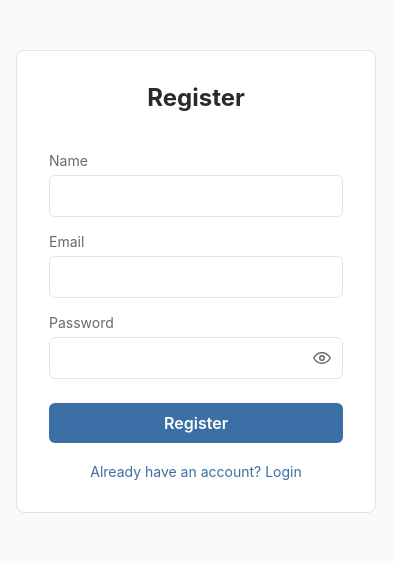
Test: RegisterPage › shows every problem at once, as full sentences
The image size is (393, 563).
Step 1. Type "not-an-email" into the field labelled "Email" → {"x": 196, "y": 276}, box 49,256 -> 343,298
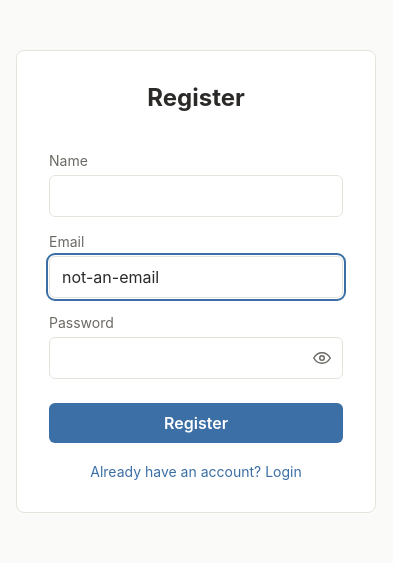
Step 2. Click the password field labelled "Password" → {"x": 196, "y": 358}, box 49,336 -> 343,378
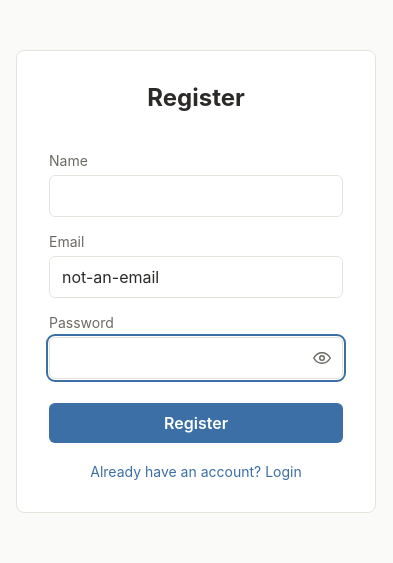
Step 3. Type keys "short"
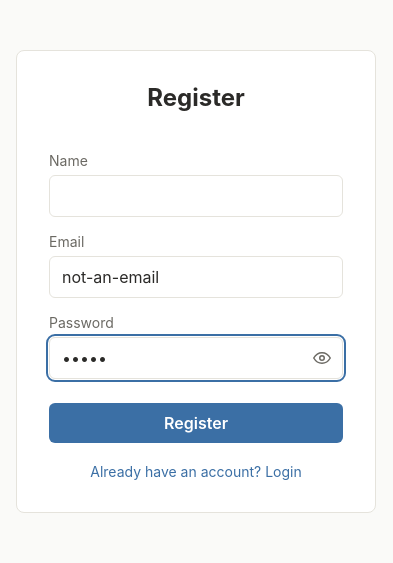
Step 4. Click the button "Register" → {"x": 196, "y": 422}, box 49,402 -> 343,442
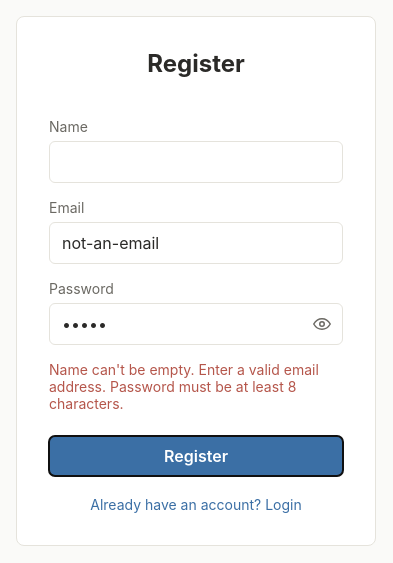
Check: the text "Name can't be empty. Enter a valid email address. Password must be at least 8 characters." is shown, box 49,361 -> 319,412
